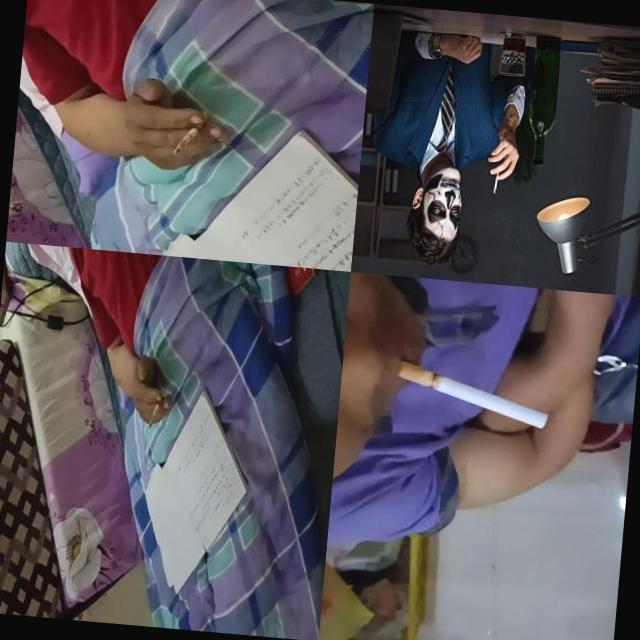cigarette: (390, 360, 552, 430), (173, 106, 210, 158), (148, 385, 166, 429), (492, 170, 499, 194)
